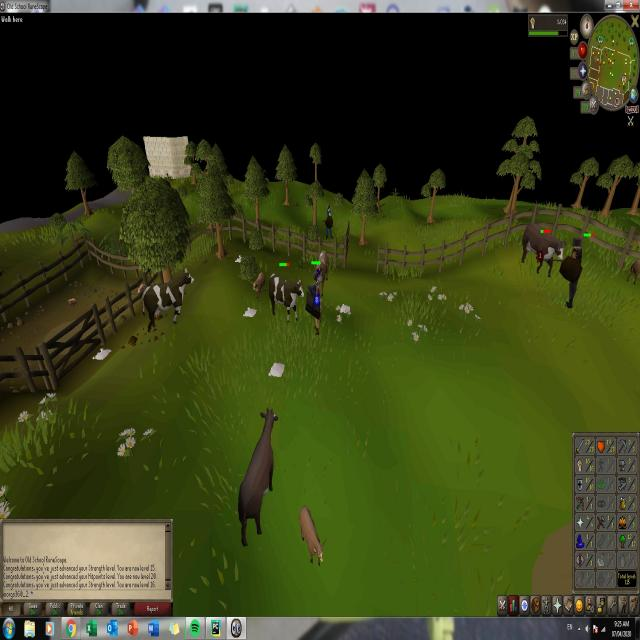cow: (238, 402, 278, 546), (138, 271, 194, 329), (520, 220, 566, 278), (269, 270, 304, 324), (298, 500, 325, 564), (314, 250, 331, 284), (251, 268, 266, 302)
player: (308, 267, 322, 333)
